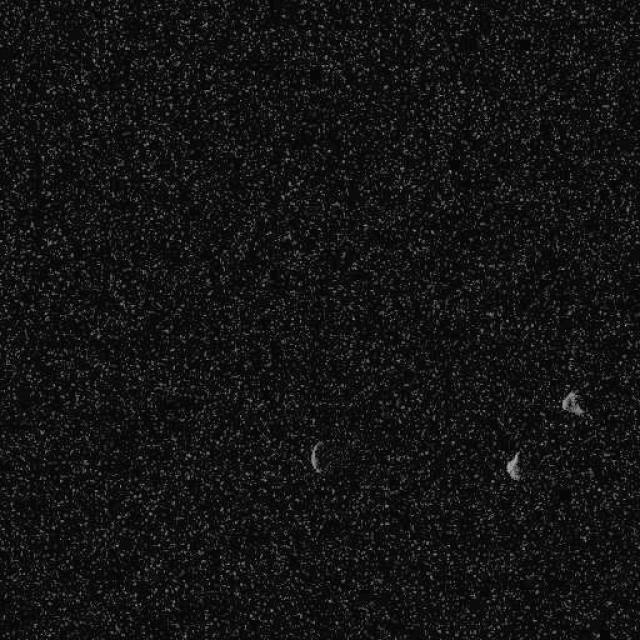D2: (560, 389, 584, 416), (309, 438, 325, 472), (505, 450, 521, 480)
